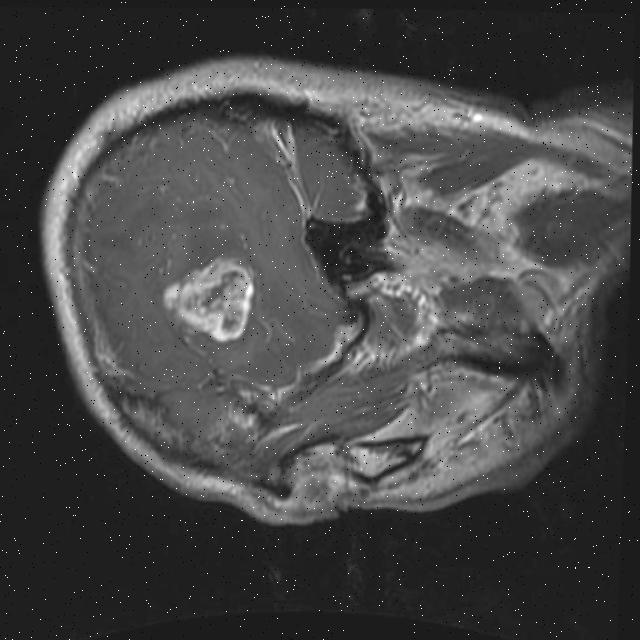Glioma: (158, 252, 257, 343)
